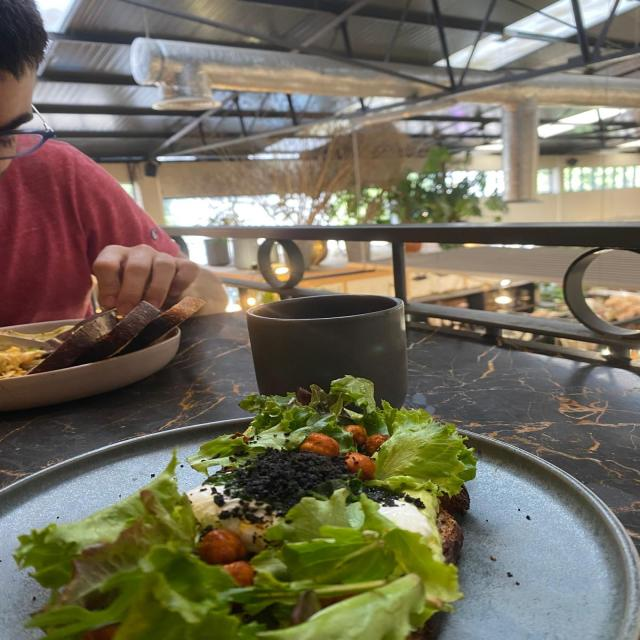coffee cup: (246, 294, 407, 407)
vegetables: (14, 379, 476, 640)
